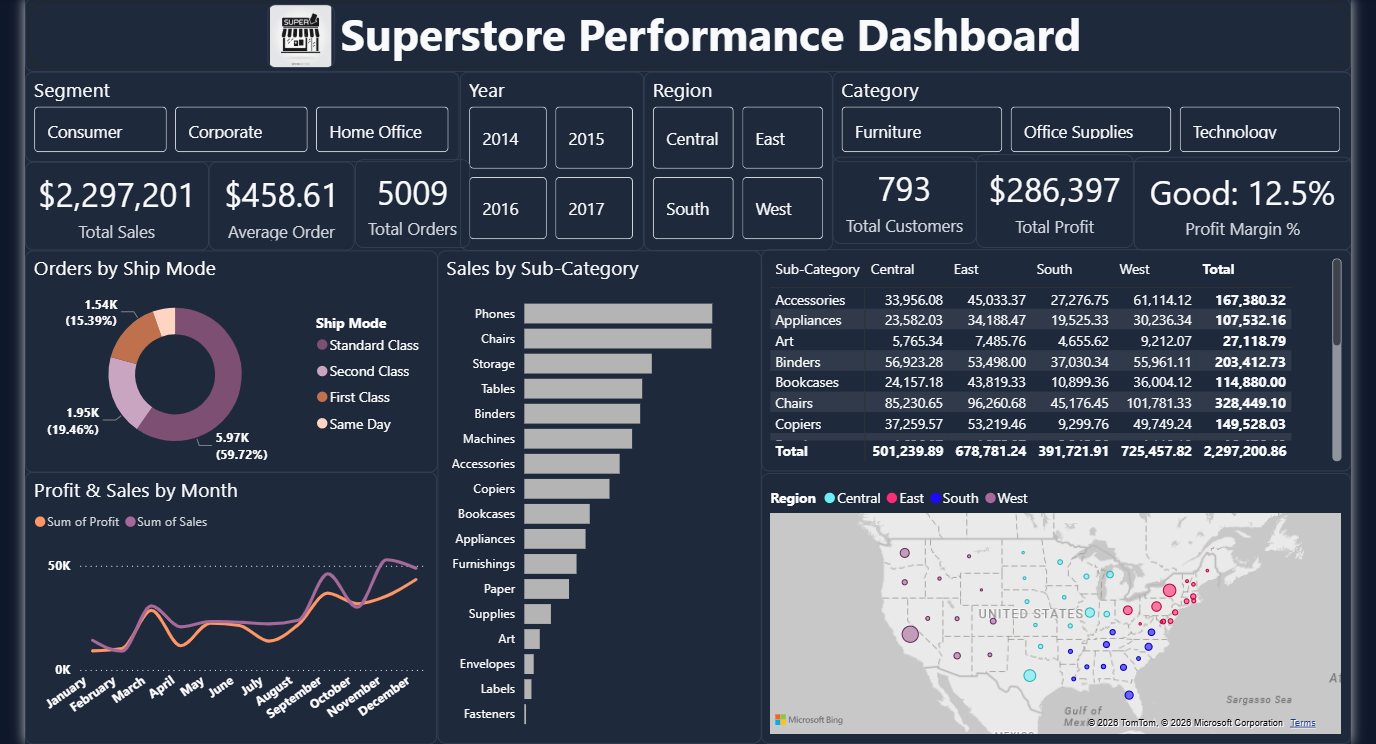

What the dashboard file says about the page in this screenshot:
{"tool":"powerbi","page":{"name":"Page 1","canvas":[1280,720],"ordinal":0},"visuals":[{"type":"shape","box":[0,0,1280.3,71.4],"z":0},{"type":"image","box":[234.6,5.5,64.5,61.7],"z":1000},{"type":"textbox","box":[299.1,0,981.1,71.4],"z":2000},{"type":"card","fields":{"Values":["Sample - Superstore.Total Sales"]},"box":[0,157.7,177.3,85.6],"z":3000},{"type":"advancedSlicerVisual","fields":{"Values":["Sample - Superstore.Order Date.Variation.Date Hierarchy.Year"]},"box":[419.4,70.9,177.3,172.4],"z":4000},{"type":"advancedSlicerVisual","fields":{"Values":["Sample - Superstore.Region"]},"box":[596.7,70.9,182.2,172.4],"z":5000},{"type":"advancedSlicerVisual","fields":{"Values":["Sample - Superstore.Segment"]},"box":[0,70.9,419.4,86.8],"z":6000},{"type":"advancedSlicerVisual","fields":{"Values":["Sample - Superstore.Category"]},"box":[778.9,70.9,501.4,86.8],"z":7000},{"type":"card","fields":{"Values":["Sample - Superstore.Total Profit"]},"box":[918.3,150.4,151.6,90.5],"z":8000},{"type":"card","fields":{"Values":["Sample - Superstore.Profit Margin %"]},"box":[1070,152.9,210.3,90.5],"z":9000},{"type":"card","fields":{"Values":["Sample - Superstore.Average Order"]},"box":[177.3,157.7,140.6,85.6],"z":10000},{"type":"card","fields":{"Values":["Sample - Superstore.Total Orders"]},"box":[317.9,155.3,111.3,85.6],"z":11000},{"type":"card","fields":{"Values":["Sample - Superstore.Total Customers"]},"box":[778.9,152.9,139.4,84.4],"z":12000},{"type":"lineChart","title":"Profit & Sales by Month","fields":{"Category":["Sample - Superstore.Order Date.Variation.Date Hierarchy.Month"],"Y":["Sum(Sample - Superstore.Profit)"],"Y2":["Sum(Sample - Superstore.Sales)"]},"box":[0,456.9,397.9,263.5],"z":13000},{"type":"map","fields":{"Category":["Sample - Superstore.State"],"Series":["Sample - Superstore.Region"],"Size":["Sample - Superstore.Total Orders"]},"box":[710.6,458.4,569.4,261.8],"z":14000},{"type":"donutChart","title":"Orders by Ship Mode","fields":{"Category":["Sample - Superstore.Ship Mode"],"Y":["CountNonNull(Sample - Superstore.Order ID)"]},"box":[0,243.7,398.1,214.7],"z":15000},{"type":"clusteredBarChart","title":"Sales by Sub-Category","fields":{"Category":["Sample - Superstore.Sub-Category"],"Y":["Sum(Sample - Superstore.Sales)"]},"box":[397.9,244.3,312.9,476.2],"z":16000},{"type":"pivotTable","fields":{"Rows":["Sample - Superstore.Sub-Category"],"Columns":["Sample - Superstore.Region"],"Values":["Sum(Sample - Superstore.Sales)"]},"box":[710.8,242.9,569.5,214.1],"z":17000}]}

Visuals, with their boxes on the page's 1280x720 design canvas (x1, y1, x2, y2). These are canvas units, not pixel positions in the 1376x744 screenshot, which may show the page scaled, cropped or inside an application window:
shape: box(0, 0, 1280, 71)
image: box(235, 6, 299, 67)
textbox: box(299, 0, 1280, 71)
card - Sample - Superstore.Total Sales: box(0, 158, 177, 243)
advancedSlicerVisual - Sample - Superstore.Order Date.Variation.Date Hierarchy.Year: box(419, 71, 597, 243)
advancedSlicerVisual - Sample - Superstore.Region: box(597, 71, 779, 243)
advancedSlicerVisual - Sample - Superstore.Segment: box(0, 71, 419, 158)
advancedSlicerVisual - Sample - Superstore.Category: box(779, 71, 1280, 158)
card - Sample - Superstore.Total Profit: box(918, 150, 1070, 241)
card - Sample - Superstore.Profit Margin %: box(1070, 153, 1280, 243)
card - Sample - Superstore.Average Order: box(177, 158, 318, 243)
card - Sample - Superstore.Total Orders: box(318, 155, 429, 241)
card - Sample - Superstore.Total Customers: box(779, 153, 918, 237)
"Profit & Sales by Month" lineChart: box(0, 457, 398, 720)
map - Sample - Superstore.State x Sample - Superstore.Region: box(711, 458, 1280, 720)
"Orders by Ship Mode" donutChart: box(0, 244, 398, 458)
"Sales by Sub-Category" clusteredBarChart: box(398, 244, 711, 720)
pivotTable - Sample - Superstore.Sub-Category x Sample - Superstore.Region: box(711, 243, 1280, 457)
